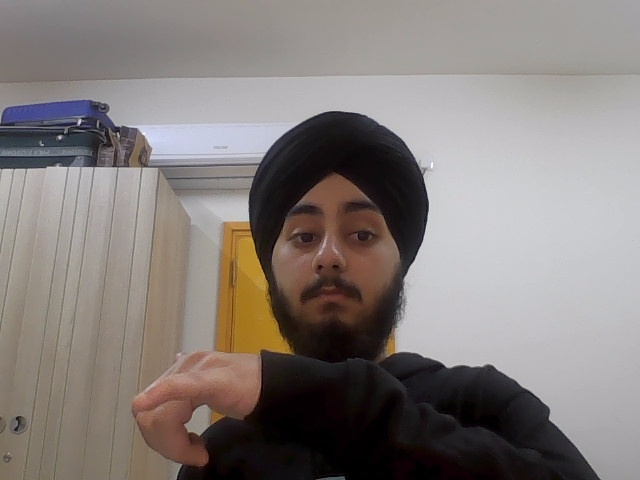Same: (127, 345, 273, 468)
